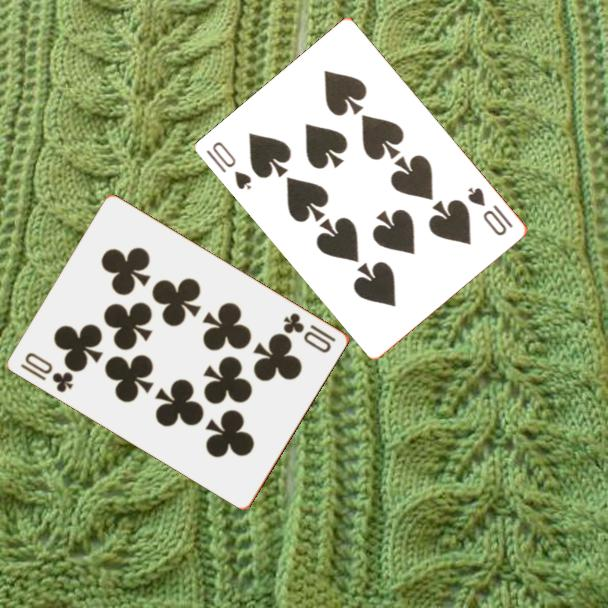c10: (280, 309, 339, 356), (17, 349, 77, 395)
s10: (464, 183, 516, 239), (203, 138, 255, 193)
